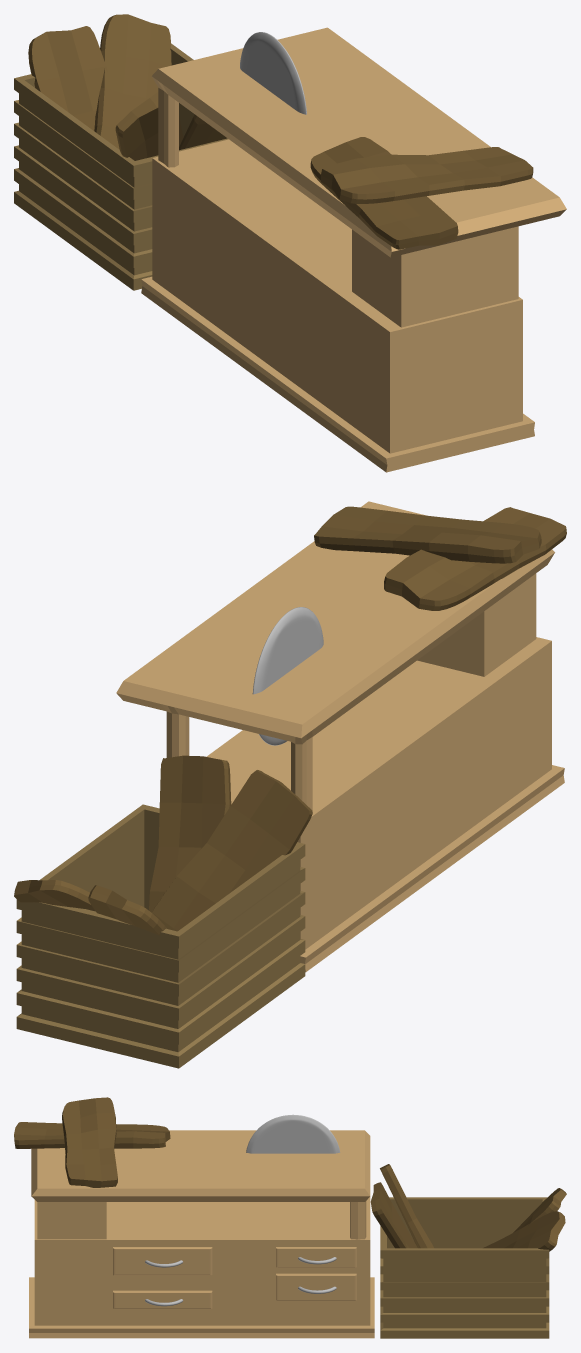
The model's file is Woodworking table_Full.fbx.
3 views of the same model, one above another, from view 1: azimuth 30°, elevation 25°; view 2: azimuth 150°, elevation 25°; view 3: azimuth 270°, elevation 25° (orthographic). The views are drawn at different scales.
Visible parts, largest first — view 1: Cube, StationTop, Cube.001, Cube.004, Cube.008, Cube.006, Cube.003, Cylinder, Cube.007, Cube.005; view 2: Cube, Cube.001, StationTop, Cube.007, Cube.004, Cube.005, Cube.003, Cylinder, Cube.006, Cube.008; view 3: Cube, StationTop, Cube.001, Cube.004, Cylinder, Cube.003, Cube.008, Cube.005, Cube.007, Cube.006.
Boxes of the visible parts, left/top/right/bottom form: Cube: left=141, top=139, right=534, bottom=472; StationTop: left=151, top=27, right=566, bottom=327; Cube.001: left=14, top=43, right=228, bottom=290; Cube.004: left=321, top=147, right=533, bottom=203; Cube.008: left=94, top=14, right=171, bottom=149; Cube.006: left=28, top=26, right=107, bottom=130; Cube.003: left=310, top=137, right=458, bottom=249; Cylinder: left=240, top=32, right=306, bottom=114; Cube.007: left=115, top=92, right=183, bottom=160; Cube.005: left=179, top=114, right=227, bottom=150; Cube: left=206, top=637, right=564, bottom=972; Cube.001: left=16, top=804, right=305, bottom=1068; StationTop: left=116, top=501, right=554, bottom=811; Cube.007: left=151, top=770, right=312, bottom=931; Cube.004: left=314, top=506, right=541, bottom=563; Cube.005: left=149, top=755, right=231, bottom=912; Cube.003: left=384, top=507, right=566, bottom=610; Cylinder: left=252, top=607, right=323, bottom=745; Cube.006: left=88, top=885, right=166, bottom=935; Cube.008: left=14, top=880, right=95, bottom=911; Cube: left=29, top=1197, right=374, bottom=1338; StationTop: left=31, top=1130, right=370, bottom=1239; Cube.001: left=380, top=1197, right=549, bottom=1338; Cube.004: left=62, top=1097, right=117, bottom=1187; Cylinder: left=246, top=1114, right=340, bottom=1153; Cube.003: left=14, top=1122, right=170, bottom=1148; Cube.008: left=483, top=1211, right=565, bottom=1251; Cube.005: left=370, top=1182, right=417, bottom=1248; Cube.007: left=380, top=1164, right=433, bottom=1248; Cube.006: left=513, top=1188, right=566, bottom=1232.
Bounding box in the file's own units: 93.11 × 128 × 321.
